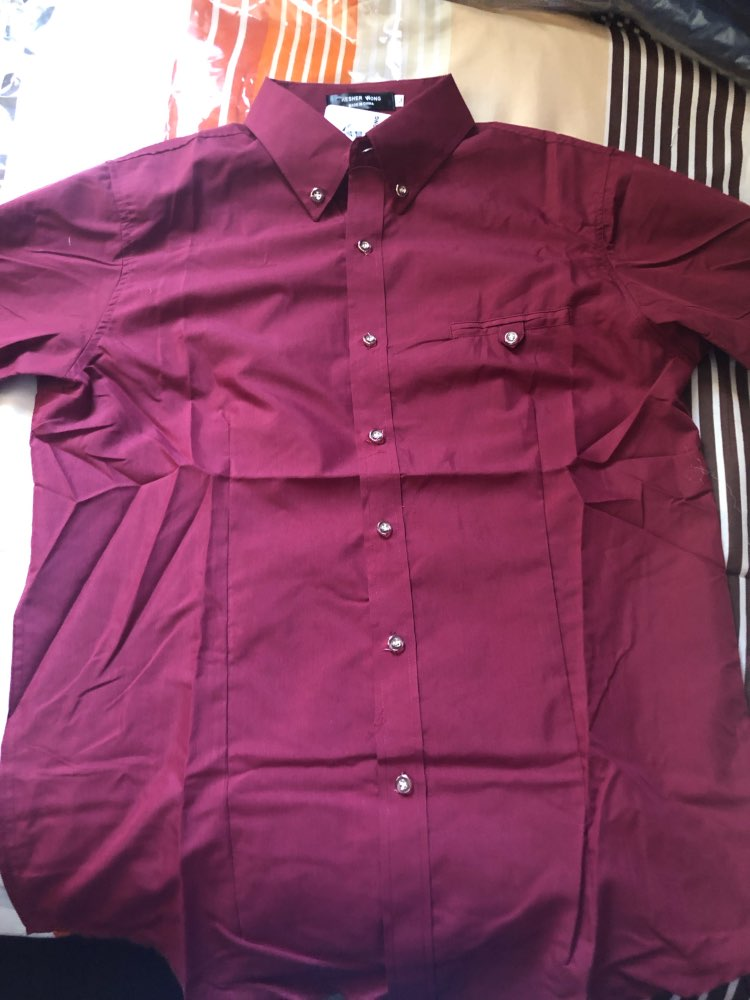shirts: (25, 74, 750, 965)
